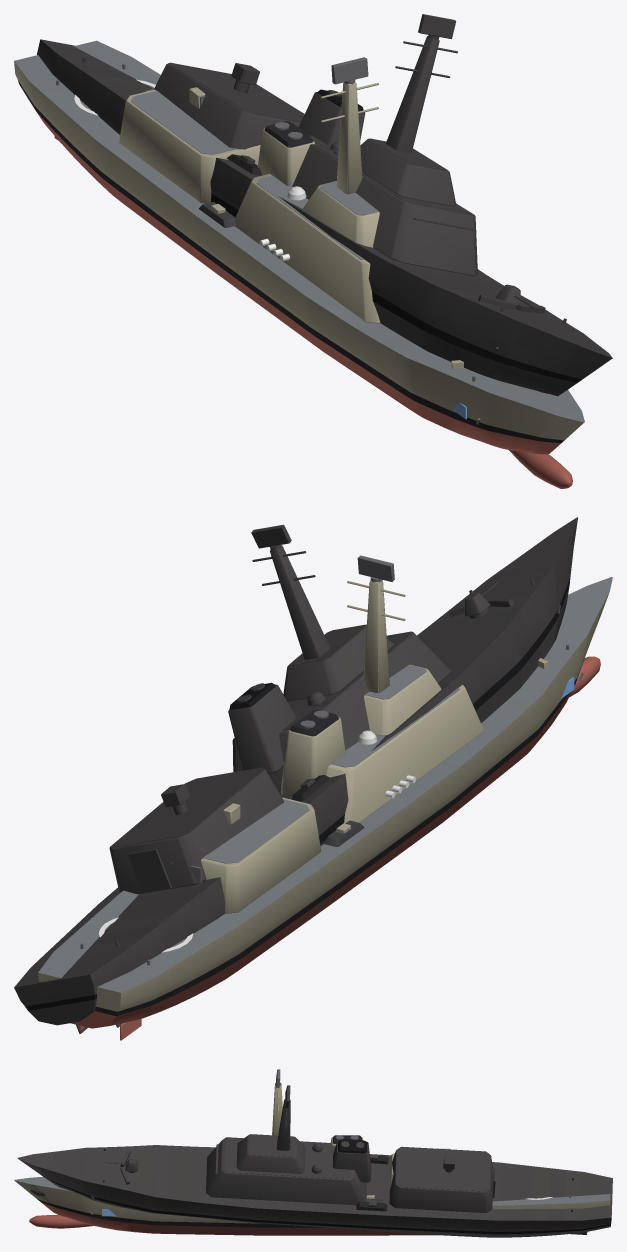
File: corvette__ada_class.glb
3 renders of one model, top to bottom at view 1: azimuth 30°, elevation 25°; view 2: azimuth 150°, elevation 25°; view 3: azimuth 270°, elevation 25°, orthographic. The views are drawn at different scales.
Parts seen in each view (by area): view 1: Hull_Mesh, Wreck, Radar_Mesh; view 2: Hull_Mesh, Wreck, Radar_Mesh; view 3: Wreck, Hull_Mesh.
Boxes of the visible parts, x1=… form: Hull_Mesh: x1=14, y1=40, x2=584, y2=488; Wreck: x1=37, y1=14, x2=612, y2=396; Radar_Mesh: x1=331, y1=57, x2=368, y2=84; Hull_Mesh: x1=38, y1=577, x2=612, y2=1040; Wreck: x1=14, y1=517, x2=577, y2=1033; Radar_Mesh: x1=357, y1=555, x2=394, y2=582; Wreck: x1=17, y1=1085, x2=612, y2=1237; Hull_Mesh: x1=14, y1=1085, x2=610, y2=1235.
Size of what is drawn, in the model's own units: 20.26 by 32.09 by 104.
